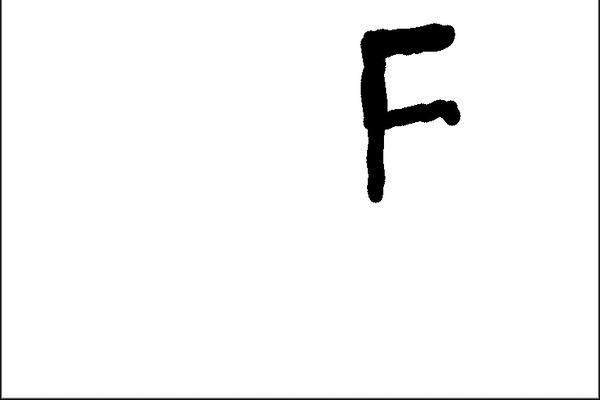F: (354, 19, 465, 205)
